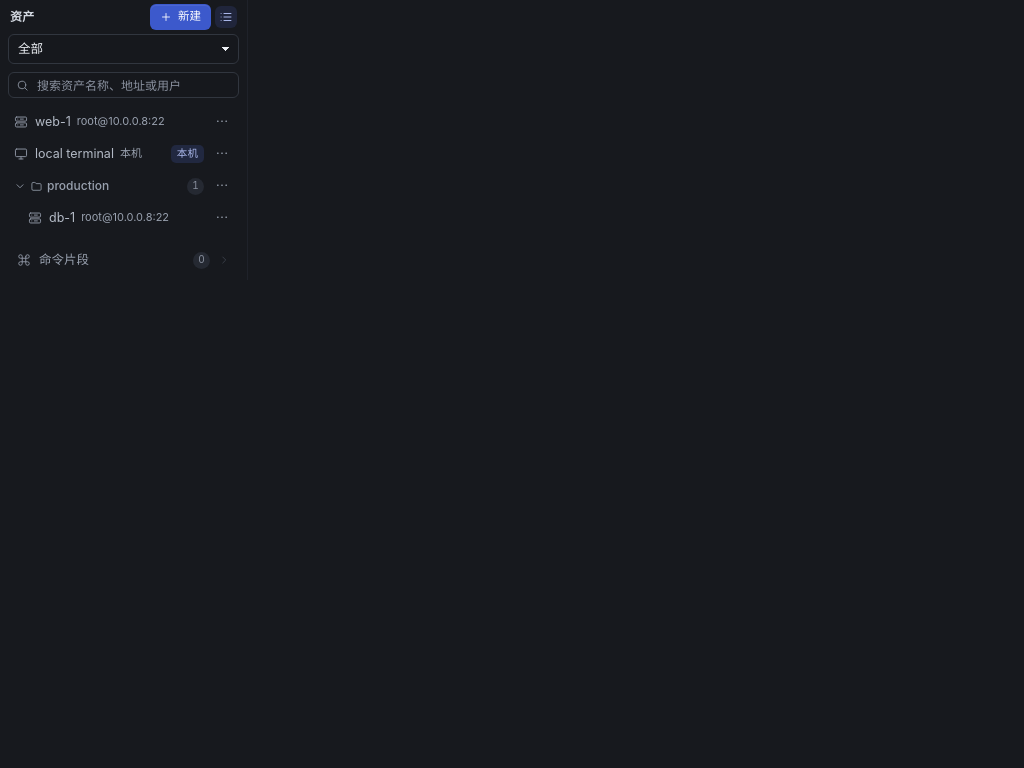
Scenario: asset row actions on coarse pointers › opens a full menu with connect, edit, delete, clone and hide
Click the button with class "nx-row-more" in the row of "web-1" at {"x": 222, "y": 122}, box [211,111,233,133]
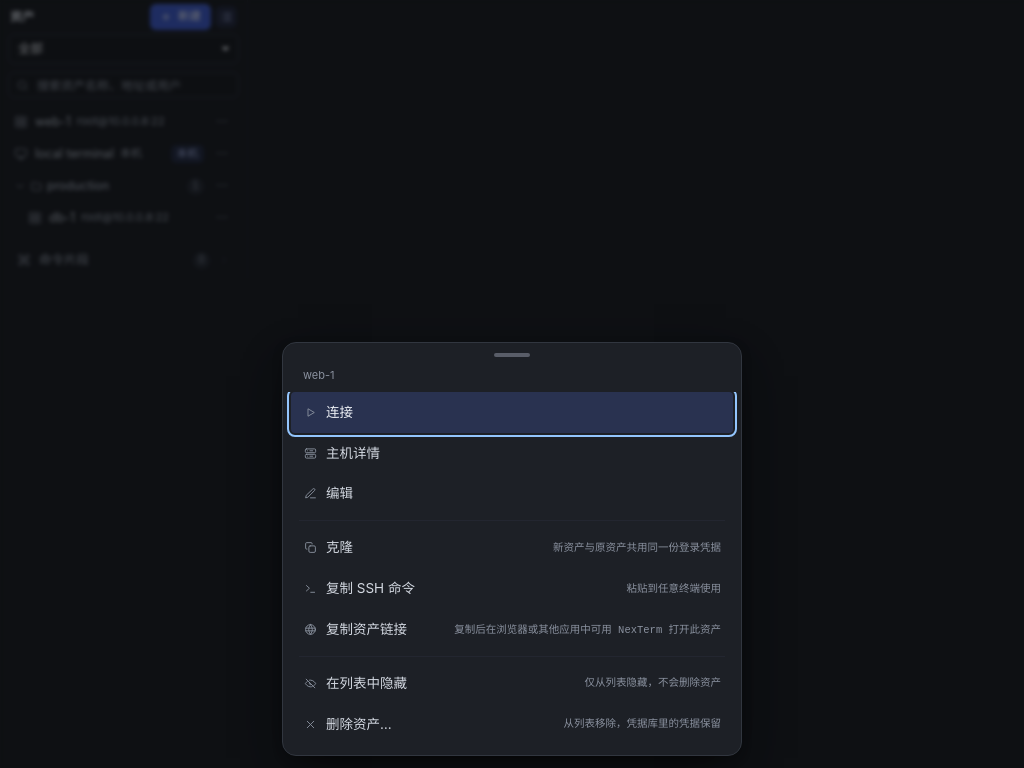
Expected: the menu item "连接" is shown, [291,392,733,432]
